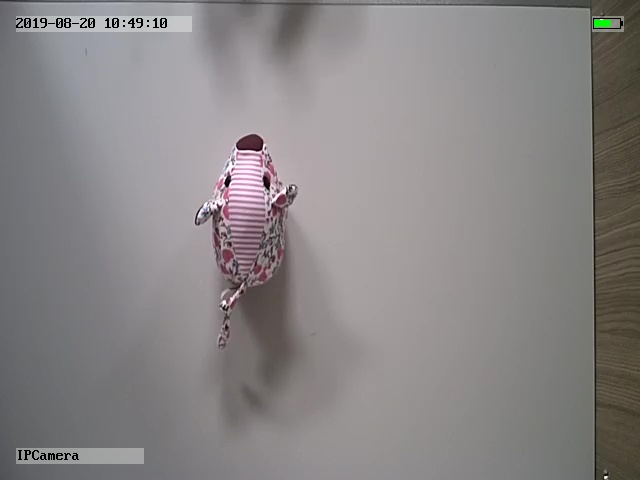pig: (194, 134, 299, 351)
